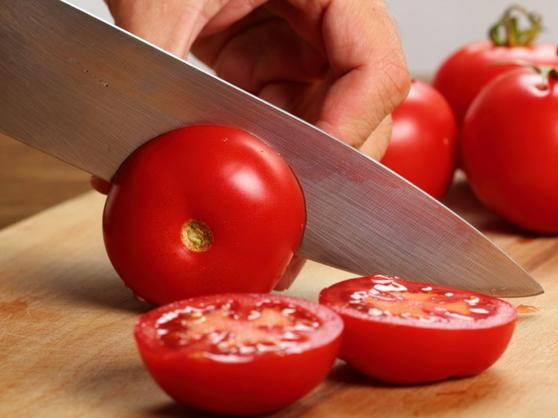tomato: (92, 122, 312, 301)
